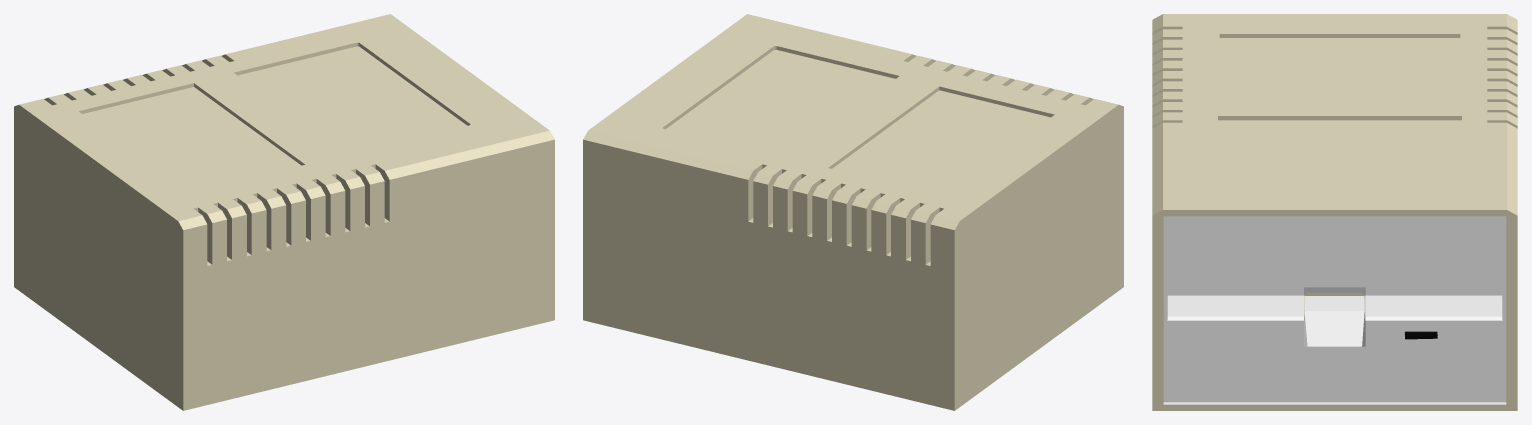
File: AppleComputerFloppyDrive.gltf
The picture shows the model from 3 angles, left to right: view 1: azimuth 30°, elevation 25°; view 2: azimuth 150°, elevation 25°; view 3: azimuth 270°, elevation 25°; orthographic projection. The views are drawn at different scales.
Parts seen in each view (by area): view 1: FloppyDrive.002; view 2: FloppyDrive.002; view 3: FloppyDrive.002.
Boxes of the visible parts, bbox=[...] form: FloppyDrive.002: bbox=[14, 14, 554, 410]; FloppyDrive.002: bbox=[583, 14, 1123, 410]; FloppyDrive.002: bbox=[1152, 14, 1517, 410].
Size of the model in its own units: 2 by 0.9571 by 1.58.
